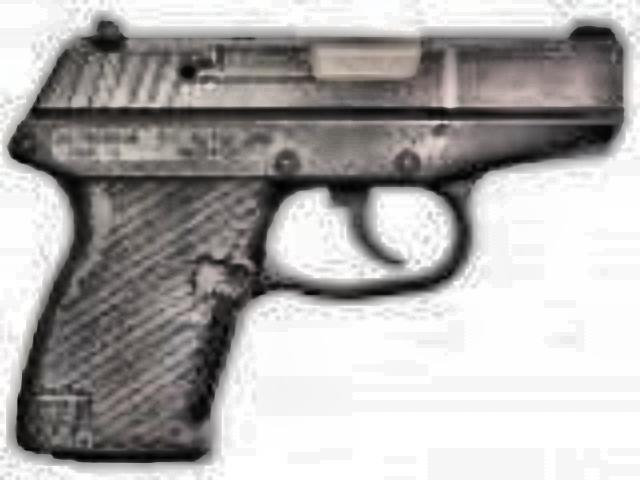pistol: (12, 16, 600, 460)
